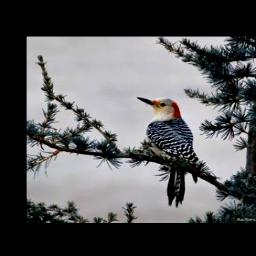Woodpecker: (136, 96, 198, 206)
